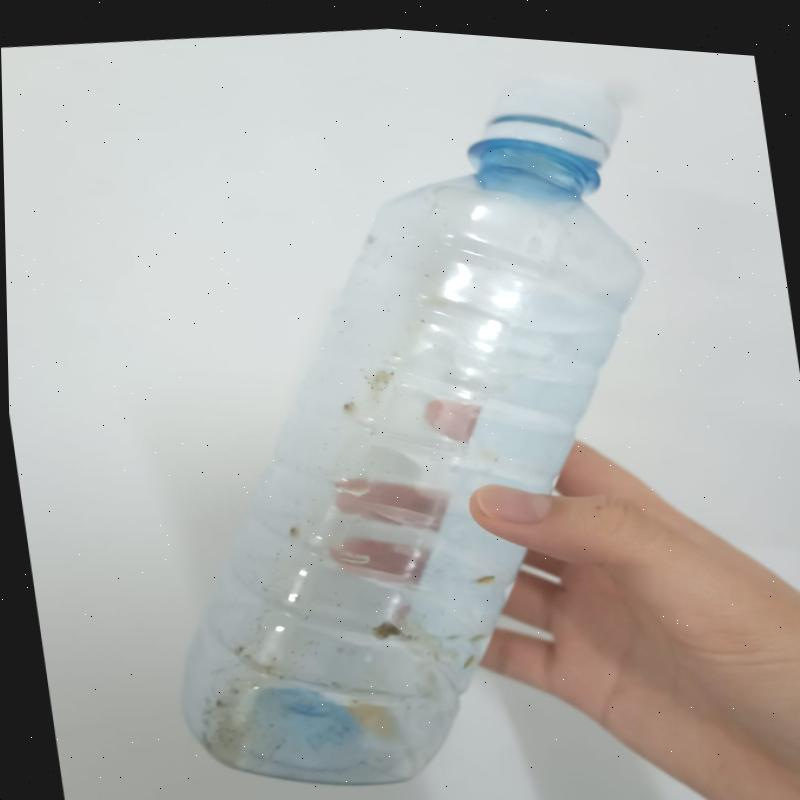botella: (82, 35, 710, 800)
